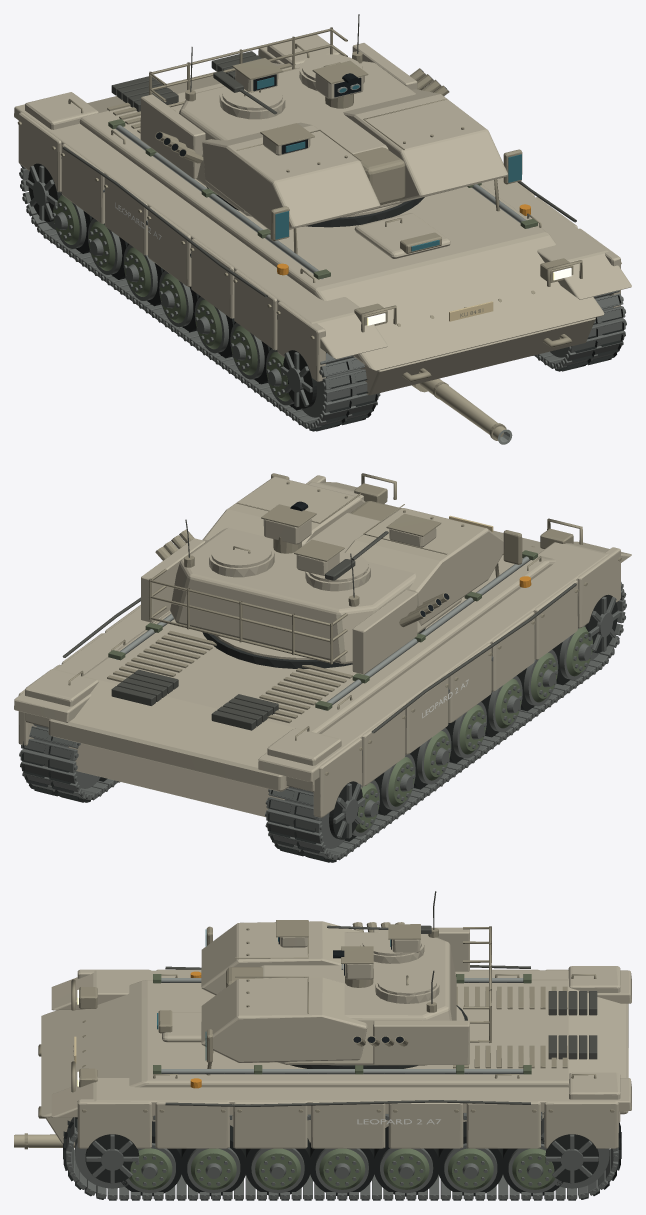
File: leopard.glb
3 renders of one model, top to bottom at view 1: azimuth 30°, elevation 25°; view 2: azimuth 150°, elevation 25°; view 3: azimuth 270°, elevation 25°, orthographic. The views are drawn at different scales.
Parts seen in each view (by area): view 1: body.005, turret.005, tracks.005, body_field_fittings.004, cannon.005; view 2: body.005, turret.005, tracks.005, body_field_fittings.004; view 3: body.005, turret.005, tracks.005, body_field_fittings.004, cannon.005.
Boxes of the visible parts, x1,y1,x2,y2 form: body.005: (14,34,631,395); turret.005: (140,14,530,275); tracks.005: (19,157,626,431); body_field_fittings.004: (108,51,537,279); cannon.005: (412,378,512,444); body.005: (14,473,631,817); turret.005: (141,473,531,674); tracks.005: (19,582,626,862); body_field_fittings.004: (108,550,537,730); body.005: (38,965,631,1148); turret.005: (190,891,491,1088); tracks.005: (63,1112,621,1200); body_field_fittings.004: (153,974,597,1074); cannon.005: (14,1133,74,1149).
Size of the model in its own units: 3.91 by 3.03 by 7.34.
